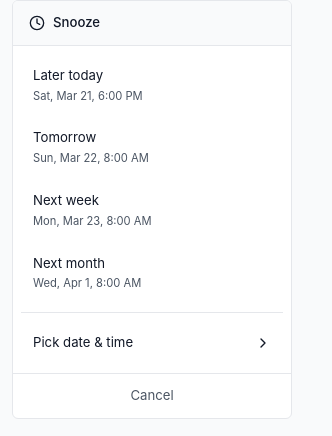
DateTimePicker - custom form view (lines 66-91) › shows confirm button with confirmButtonText inside custom form
Step 1. Click the button "Pick date & time" → (83, 342), box [21, 321, 283, 365]
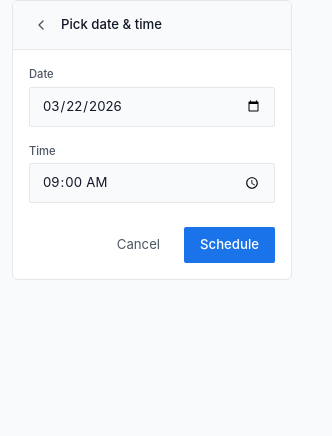
Check: the button "Schedule" is shown, box [184, 227, 275, 263]
